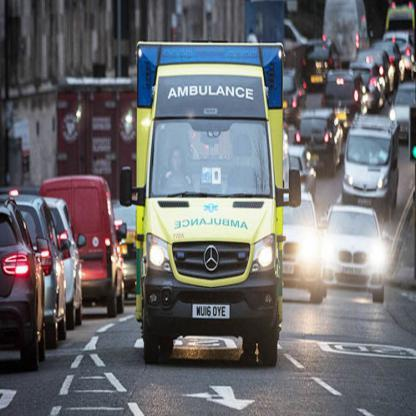Ambulance - v1 Ambulance last generate: (132, 33, 289, 373)
